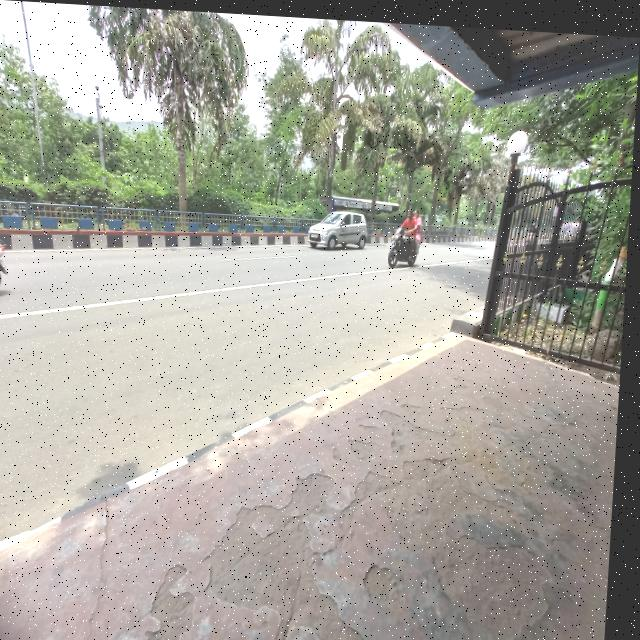bike: (388, 222, 430, 272)
car: (310, 201, 382, 260)
